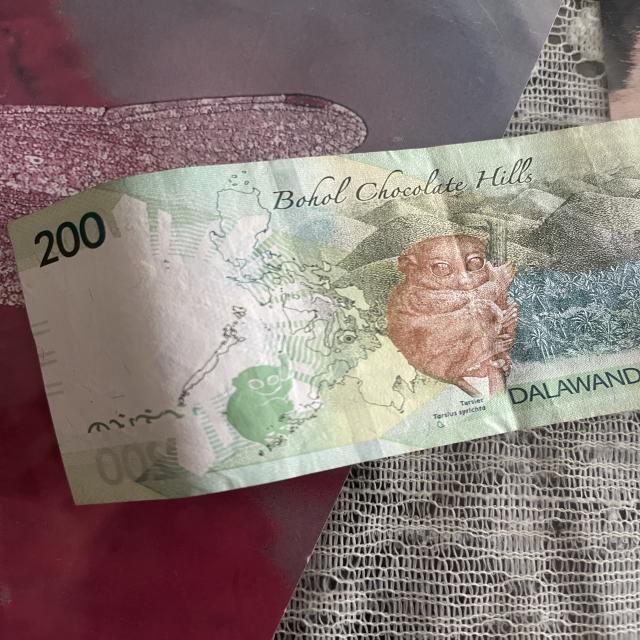200_tarsier: (370, 223, 532, 398)
200_tarsier_watermark: (214, 346, 313, 452)
